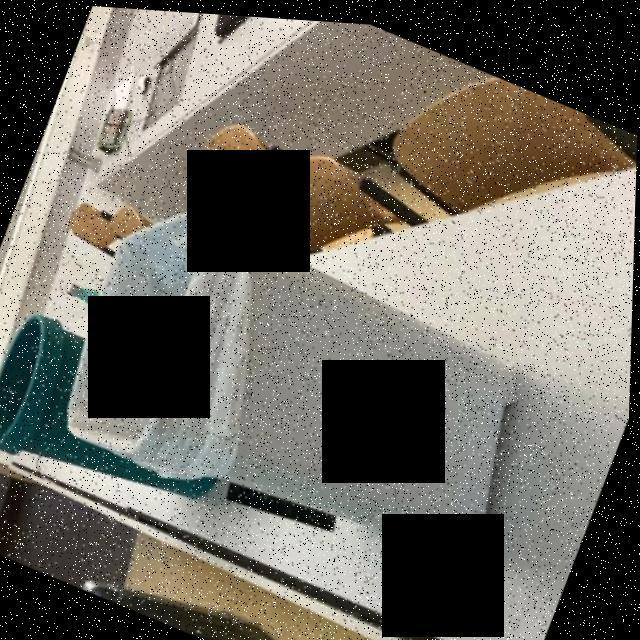bin: (52, 158, 591, 618)
